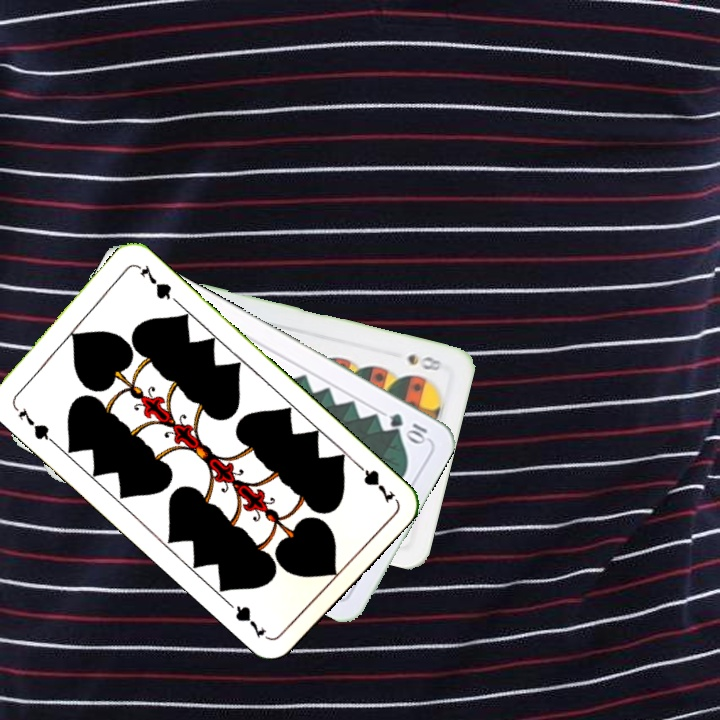G10: (385, 409, 431, 447)
G7: (349, 457, 399, 506), (8, 400, 56, 445)
S8: (403, 350, 446, 374)
